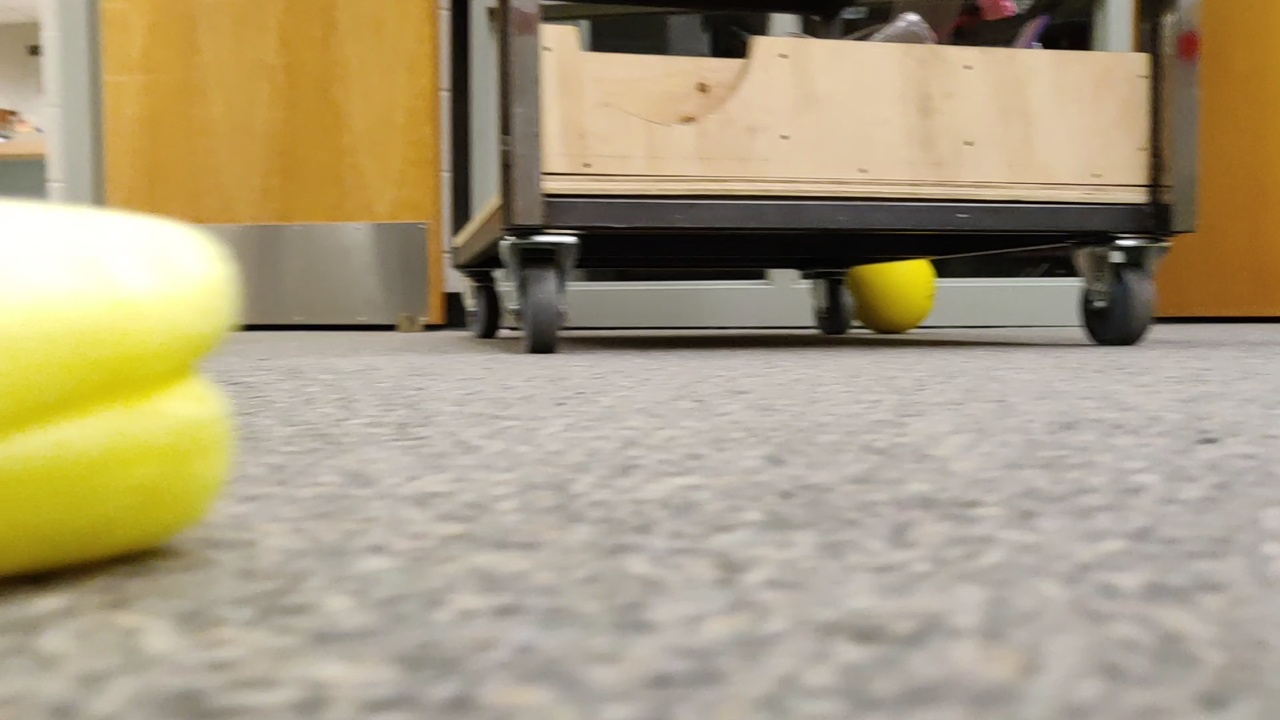Ball: (851, 261, 936, 334)
